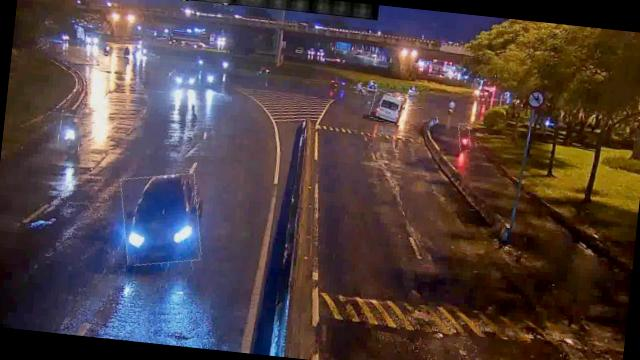Bike: (57, 114, 82, 156), (458, 123, 473, 151)
Bus: (369, 90, 406, 124)
Car: (116, 170, 206, 270)
